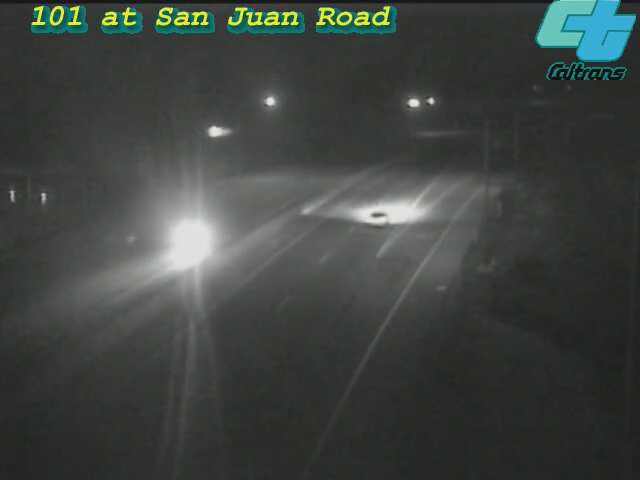vehicle: (335, 181, 415, 261), (150, 199, 230, 279)
